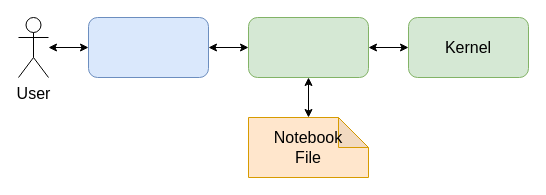
The diagram is 546 pixels wide and 195 high, and some of its shapes have lost their labels. The shapes that lost their labels are listed below. From the top down, each one's box as (x1, y1, x2, y2) in pixels, then its label:
(88, 16, 208, 78): Browser
(248, 16, 368, 78): Notebook Server
